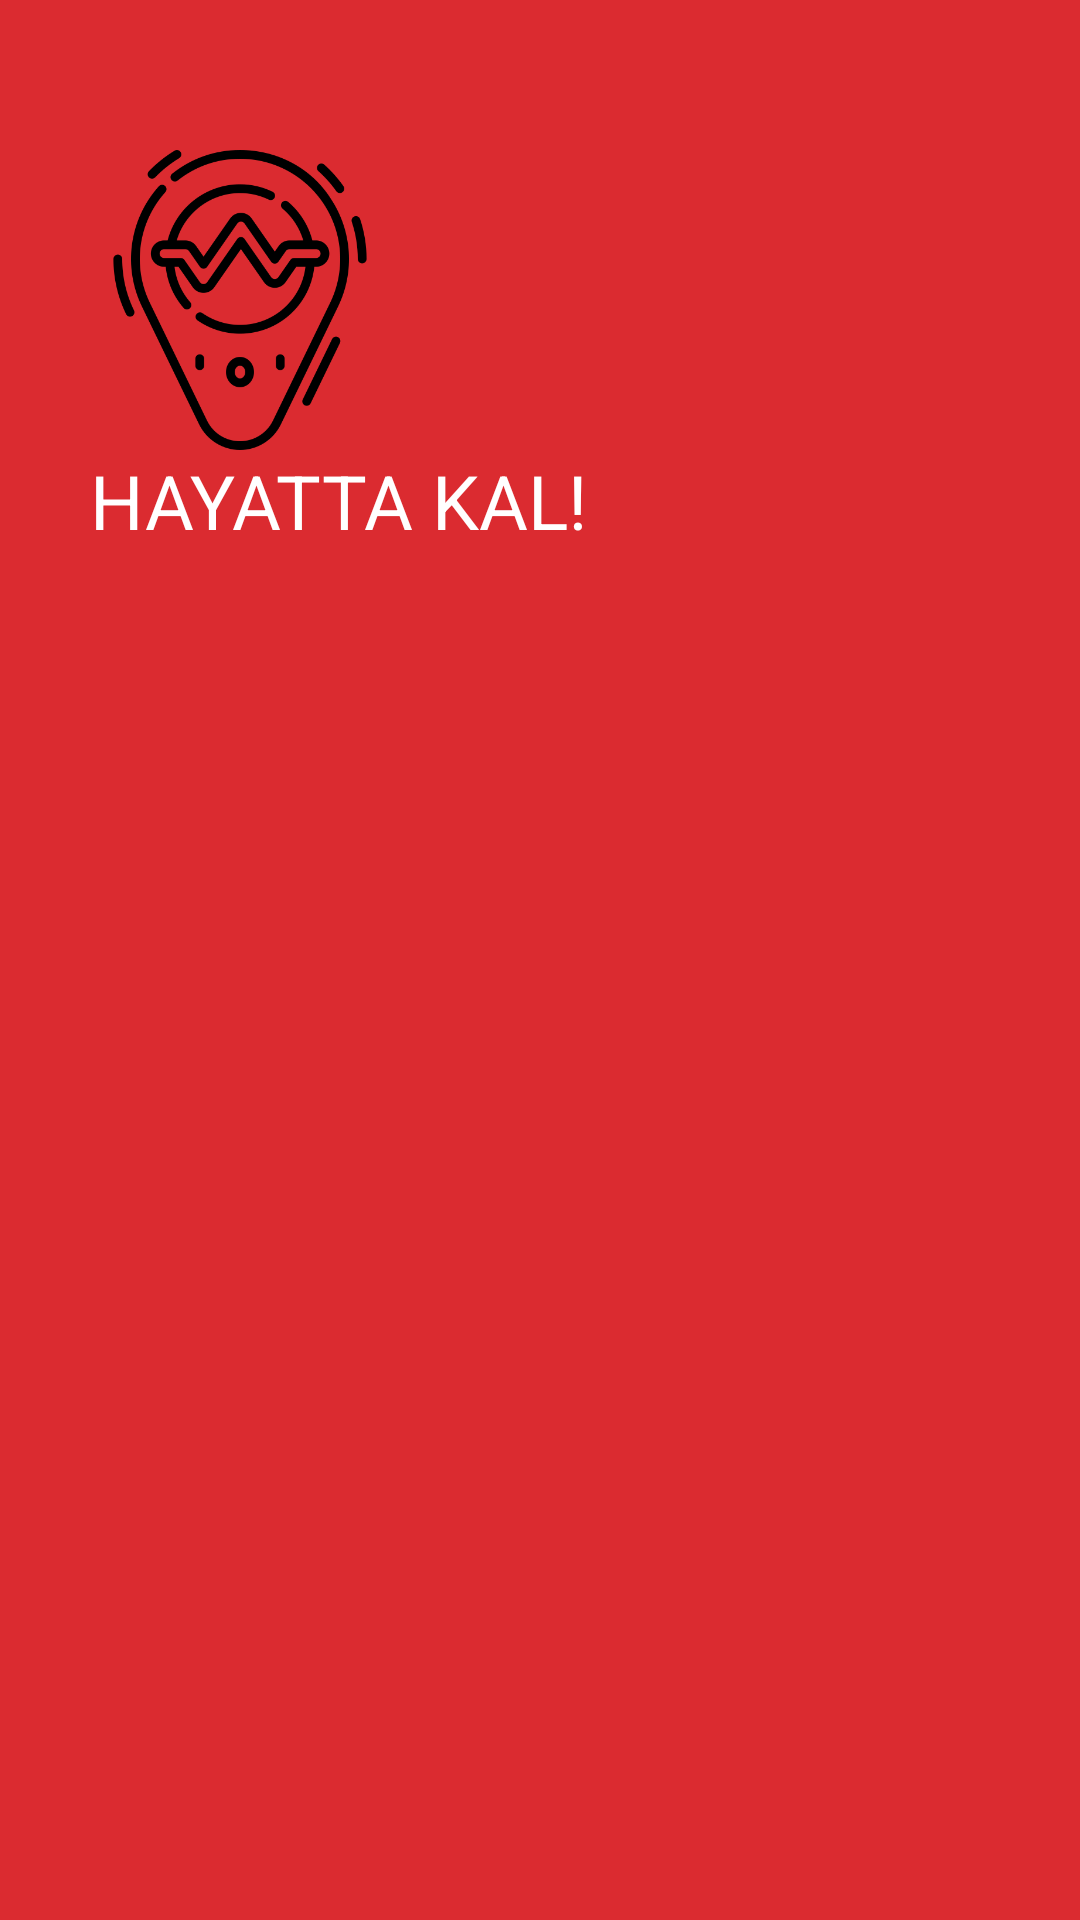

Icons on this 1080px×1920px Android screen, each with the point to tap as (x=x, y=y):
earthquake: (x=240, y=300)
